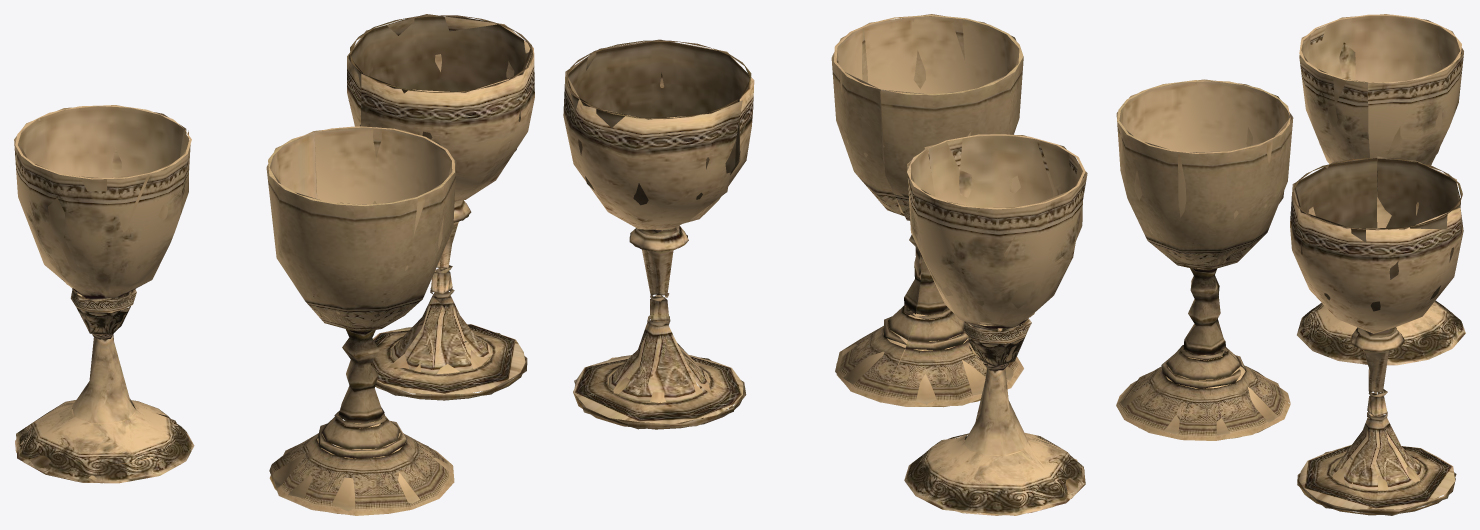
File: brass_goblets.glb
3 views of the same model, side by side, from view 1: azimuth 30°, elevation 25°; view 2: azimuth 150°, elevation 25°; view 3: azimuth 270°, elevation 25° (orthographic). The views are drawn at different scales.
Parts seen in each view (by area): view 1: brass_goblet_01, brass_goblet_02, brass_goblet_03; view 2: brass_goblet_03, brass_goblet_02, brass_goblet_01; view 3: brass_goblet_01, brass_goblet_03, brass_goblet_02.
Boxes of the visible parts, <box> form: brass_goblet_01: <box>266,126,456,515</box>; brass_goblet_02: <box>14,105,194,483</box>; brass_goblet_03: <box>347,14,534,400</box>; brass_goblet_03: <box>563,39,754,429</box>; brass_goblet_02: <box>904,134,1087,515</box>; brass_goblet_01: <box>831,14,1023,407</box>; brass_goblet_01: <box>1116,79,1293,440</box>; brass_goblet_03: <box>1290,156,1463,515</box>; brass_goblet_02: <box>1297,14,1465,365</box>.
Size of the model in its own units: 0.4545 by 0.2736 by 0.2995.
Materials: 3 (3 with a texture image).
